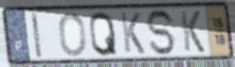I: (30, 11, 44, 61)
K: (119, 11, 147, 56), (179, 9, 207, 54)
O: (58, 12, 88, 58)
Q: (89, 10, 119, 58)
S: (146, 7, 178, 57)
